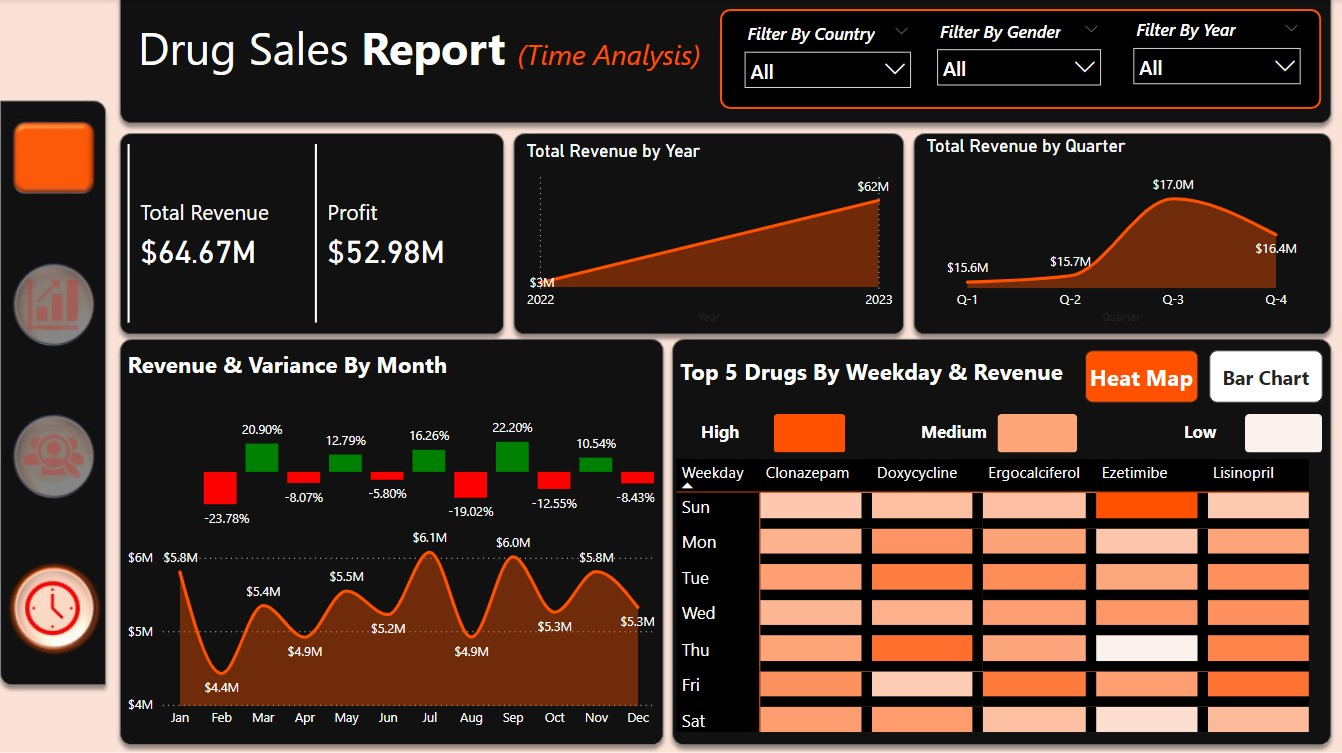

The dashboard page shown, as its layout file describes it:
{"tool":"powerbi","page":{"name":"Page 3","canvas":[1280,720],"ordinal":2},"visuals":[{"type":"shape","box":[736.7,396.1,68.4,36.7],"z":0,"group":"g1"},{"type":"shape","box":[685.7,9.5,572.6,95.2],"z":1000,"group":"g2"},{"type":"shape","box":[1186.2,396.1,73.4,36.7],"z":1000,"group":"g1"},{"type":"shape","box":[950.7,396.1,76,36.7],"z":2000,"group":"g1"},{"type":"areaChart","fields":{"Category":["Calender.Year"],"Y":["Calculations.Total Revenue"]},"box":[496.4,134.5,358.3,179.8],"z":3000},{"type":"textbox","box":[643,395.7,86,36.7],"z":3000,"group":"g1"},{"type":"areaChart","fields":{"Y":["Calculations.Total Revenue"],"Category":["Calender.Quarter"]},"box":[877.4,129.8,382.1,184.5],"z":4000},{"type":"textbox","box":[865.3,395.7,86,36.7],"z":4000,"group":"g1"},{"type":"textbox","box":[1099.8,395.7,86,36.7],"z":5000,"group":"g1"},{"type":"areaChart","fields":{"Y":["Calculations.Total Revenue"],"Category":["Calender.Month"]},"box":[116.7,483.3,511.9,219],"z":5000},{"type":"clusteredColumnChart","fields":{"Category":["Calender.Month"],"Y":["Calculations.MonthOverMonth change"]},"box":[189.3,384.5,439.3,126.2],"z":6000},{"type":"pivotTable","title":"Heat Map","fields":{"Rows":["Calender.Weekday"],"Values":["Calculations.Total Revenue"],"Columns":["DrugLookup.DrugName"]},"box":[639.3,433.3,640.5,278.6],"z":8000},{"type":"group","id":"g1","title":"Legend","box":[643,395.7,616.7,37.1],"z":9000},{"type":"textbox","title":"Heat Map","box":[642.9,334.5,390.5,50],"z":10000},{"type":"bookmarkNavigator","box":[1033.3,334.5,226.2,50],"z":12000},{"type":"cardVisual","fields":{"Data":["Calculations.Total Revenue","Calculations.Profit"]},"box":[116.7,133.3,358.3,181],"z":13000},{"type":"textbox","box":[126.2,11.9,559.5,92.9],"z":14000},{"type":"group","id":"g2","title":"Group 2","box":[685.7,9.5,572.6,95.2],"z":15000},{"type":"slicer","fields":{"Values":["Calender.Year"]},"box":[1069.1,13.1,179.8,83.3],"z":16000},{"type":"slicer","fields":{"Values":["CustomerTable.Country"]},"box":[699,16.5,178.6,83.6],"z":17000},{"type":"slicer","fields":{"Values":["CustomerTable.Gender"]},"box":[882.6,13.9,176,86.1],"z":18000},{"type":"actionButton","box":[0,239.3,100,106.4],"z":19000},{"type":"actionButton","box":[0,378.6,100,106.4],"z":20000},{"type":"textbox","title":"Heat Map","box":[116.5,328,495.1,50.7],"z":21000}]}

Visuals, with their boxes in screenshot pixels (x1, y1, x2, y2), scaled from the page's 1280x720 canvas onto the 1342x753 screenshot:
shape: <region>772, 414, 844, 453</region>
shape: <region>719, 10, 1319, 109</region>
shape: <region>1244, 414, 1321, 453</region>
shape: <region>997, 414, 1076, 453</region>
areaChart - Calender.Year x Calculations.Total Revenue: <region>520, 141, 896, 329</region>
textbox: <region>674, 414, 764, 452</region>
areaChart - Calculations.Total Revenue x Calender.Quarter: <region>920, 136, 1321, 329</region>
textbox: <region>907, 414, 997, 452</region>
textbox: <region>1153, 414, 1243, 452</region>
areaChart - Calculations.Total Revenue x Calender.Month: <region>122, 505, 659, 734</region>
clusteredColumnChart - Calender.Month x Calculations.MonthOverMonth change: <region>198, 402, 659, 534</region>
"Heat Map" pivotTable: <region>670, 453, 1341, 745</region>
"Legend" group: <region>674, 414, 1321, 453</region>
"Heat Map" textbox: <region>674, 350, 1083, 402</region>
bookmarkNavigator: <region>1083, 350, 1321, 402</region>
cardVisual - Calculations.Total Revenue x Calculations.Profit: <region>122, 139, 498, 329</region>
textbox: <region>132, 12, 719, 110</region>
"Group 2" group: <region>719, 10, 1319, 109</region>
slicer - Calender.Year: <region>1121, 14, 1309, 101</region>
slicer - CustomerTable.Country: <region>733, 17, 920, 105</region>
slicer - CustomerTable.Gender: <region>925, 15, 1110, 105</region>
actionButton: <region>0, 250, 105, 362</region>
actionButton: <region>0, 396, 105, 507</region>
"Heat Map" textbox: <region>122, 343, 641, 396</region>
